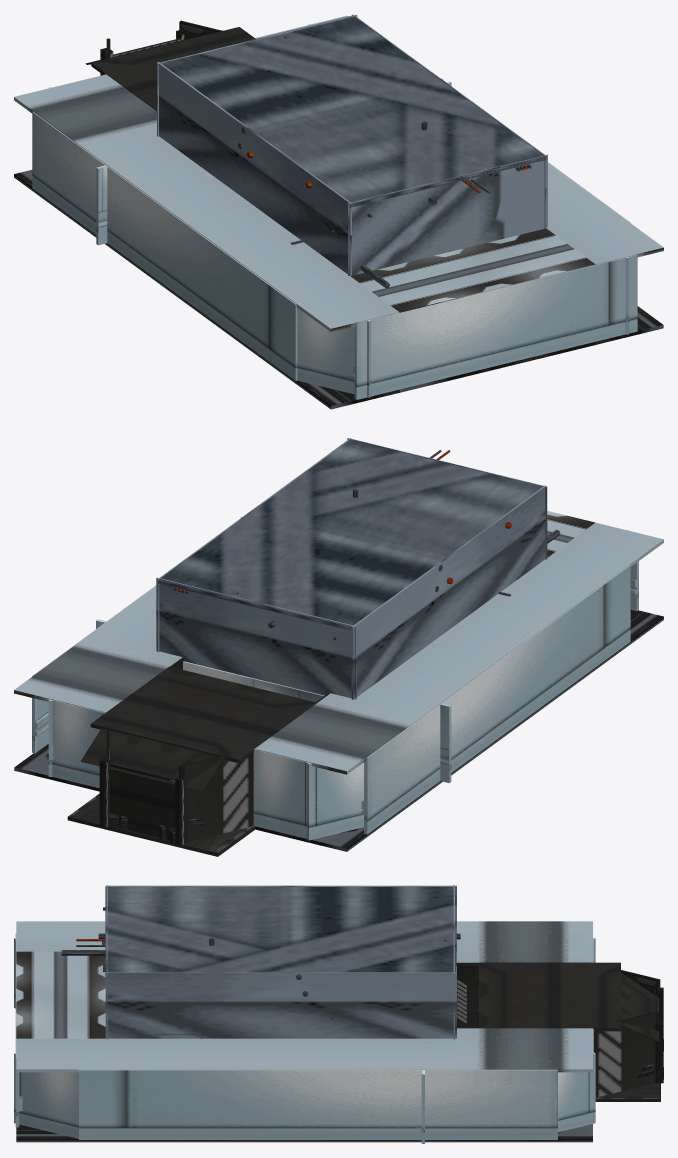
The model's file is Tutorial.fbx.
3 renders of one model, top to bottom at view 1: azimuth 30°, elevation 25°; view 2: azimuth 150°, elevation 25°; view 3: azimuth 270°, elevation 25°, orthographic. The views are drawn at different scales.
Parts seen in each view (by area): view 1: Cube.027, Cube.024, Cube.023, Cube.013, Cube.020, Cube.017, Cube.026, Cube.030, Cube.021, Cube.007, Cube.031, Cube.014 (+3 smaller); view 2: Cube.027, Cube.024, Cube.013, Cube.020, Cube.018, Cube.007, Cube.030, Cube.001, Cube.004, Cube.008, Cube.009, Cube.005 (+10 smaller); view 3: Cube.015, Cube.027, Cube.019, Cube.030, Cube.007, Cube.024, Cube.026, Cube.002, Cube.022, Cube.087, Cube.006, Cube.001 (+6 smaller).
Part boxes in pixels (<box>): Cube.027: <box>160,15,546,207</box>; Cube.024: <box>14,74,399,332</box>; Cube.023: <box>353,255,637,399</box>; Cube.013: <box>32,111,297,380</box>; Cube.020: <box>157,62,351,275</box>; Cube.017: <box>348,154,547,275</box>; Cube.026: <box>350,228,596,312</box>; Cube.030: <box>255,15,663,264</box>; Cube.021: <box>297,308,370,397</box>; Cube.007: <box>91,27,255,110</box>; Cube.031: <box>14,170,399,409</box>; Cube.014: <box>96,165,107,245</box>; Cube.027: <box>158,440,542,630</box>; Cube.024: <box>255,522,663,774</box>; Cube.013: <box>361,565,630,834</box>; Cube.020: <box>351,485,545,699</box>; Cube.018: <box>156,577,356,699</box>; Cube.007: <box>90,666,316,763</box>; Cube.030: <box>14,586,182,712</box>; Cube.001: <box>80,728,223,840</box>; Cube.004: <box>178,753,253,841</box>; Cube.008: <box>253,749,310,838</box>; Cube.009: <box>306,762,363,840</box>; Cube.005: <box>49,699,104,788</box>; Cube.015: <box>79,1069,557,1139</box>; Cube.027: <box>105,886,456,975</box>; Cube.019: <box>105,972,456,1038</box>; Cube.030: <box>16,1028,592,1072</box>; Cube.007: <box>478,962,620,1031</box>; Cube.024: <box>16,921,592,962</box>; Cube.026: <box>16,951,105,1038</box>; Cube.002: <box>593,1011,660,1097</box>; Cube.022: <box>14,1052,78,1138</box>; Cube.087: <box>16,1124,592,1142</box>; Cube.006: <box>527,1052,595,1132</box>; Cube.001: <box>621,972,659,1041</box>.
Bounding box in the file's own units: 255 × 110 × 446.
